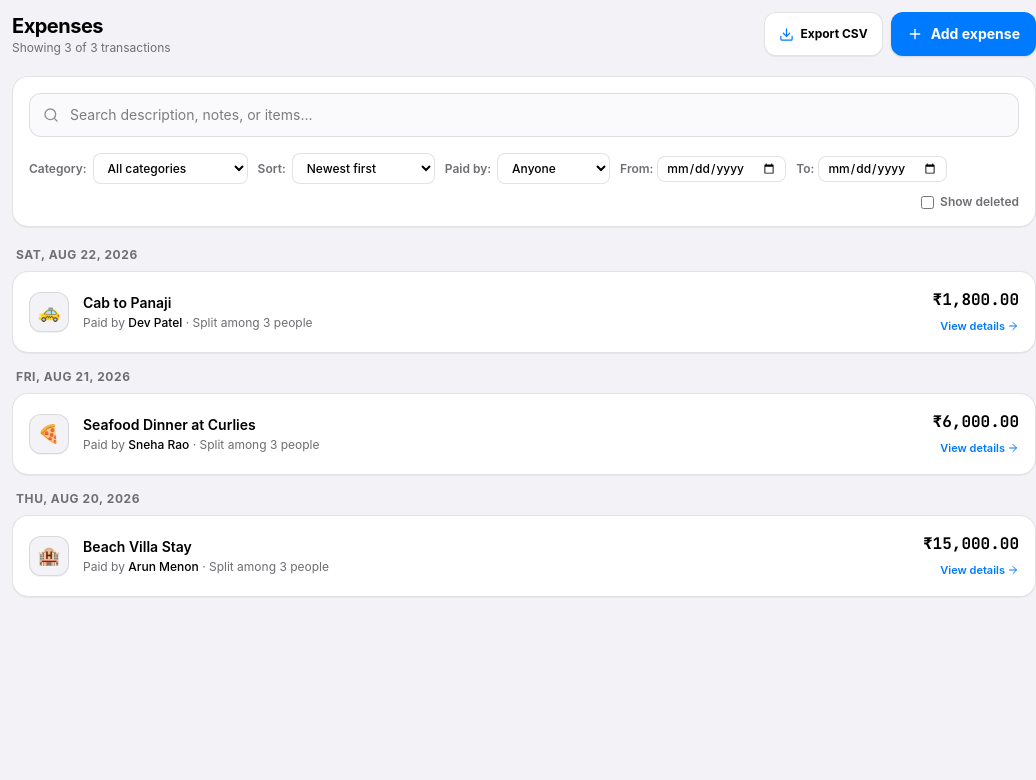
Scenario: Empirical Challenge Suite: Milestone 2 Feature Screens & Micro-interactions › ExpensesPage Filtering, Search & Micro-interactions › renders empty search state 🔍 with 'Clear all filters' CTA when no items match
Step 1. Type "non-existent-xyz" into the field named "Search expenses" → (524, 115), box [29,93,1019,137]
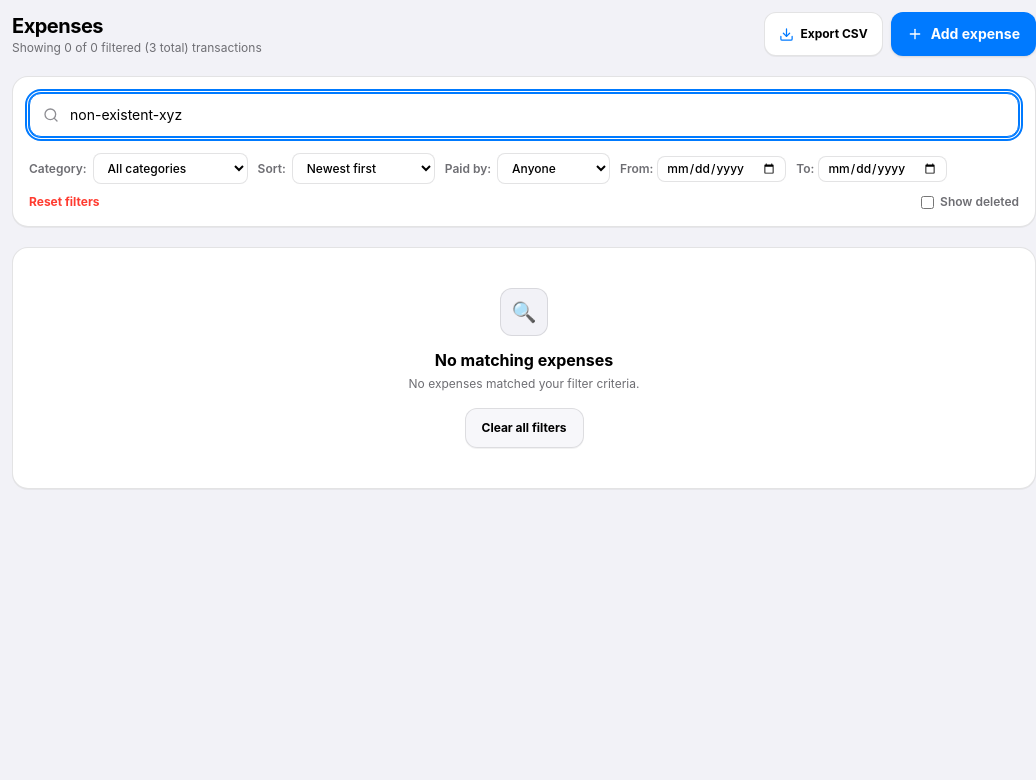
Now the text "No matching expenses" is shown, box [435,350,613,370]
Now the text "No expenses matched your filter criteria." is shown, box [409,376,640,391]
Step 2. Click the button "Clear all filters" → (524, 428), box [464,408,584,448]
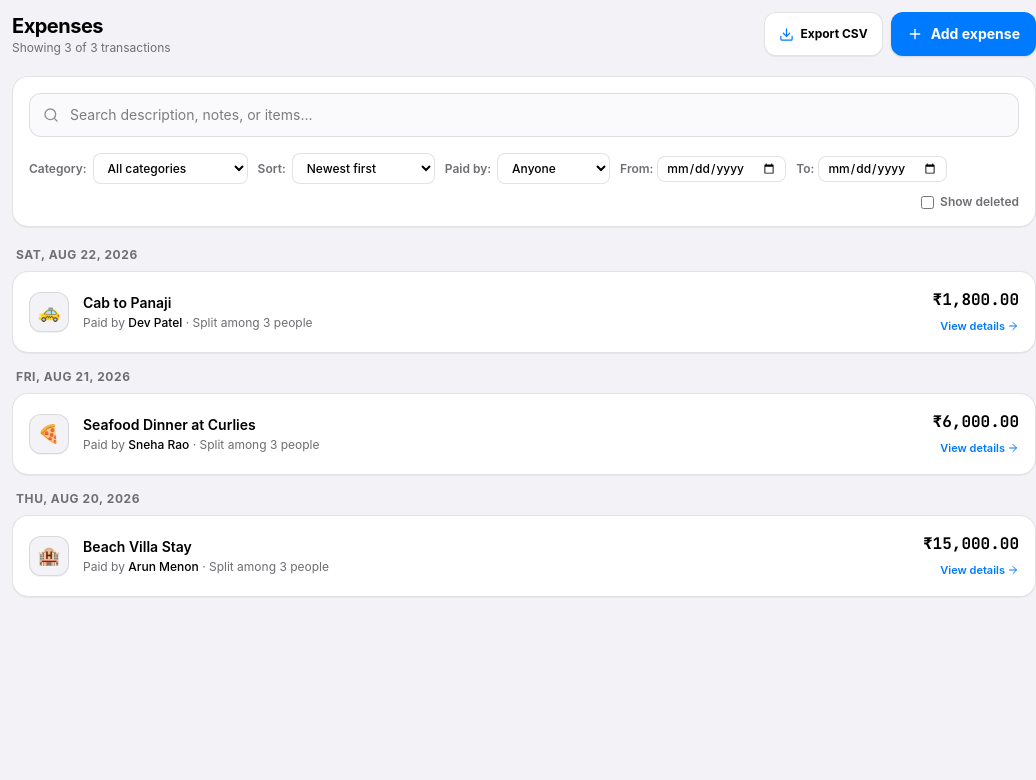
Now the text "Beach Villa Stay" is shown, box [83,537,192,557]
